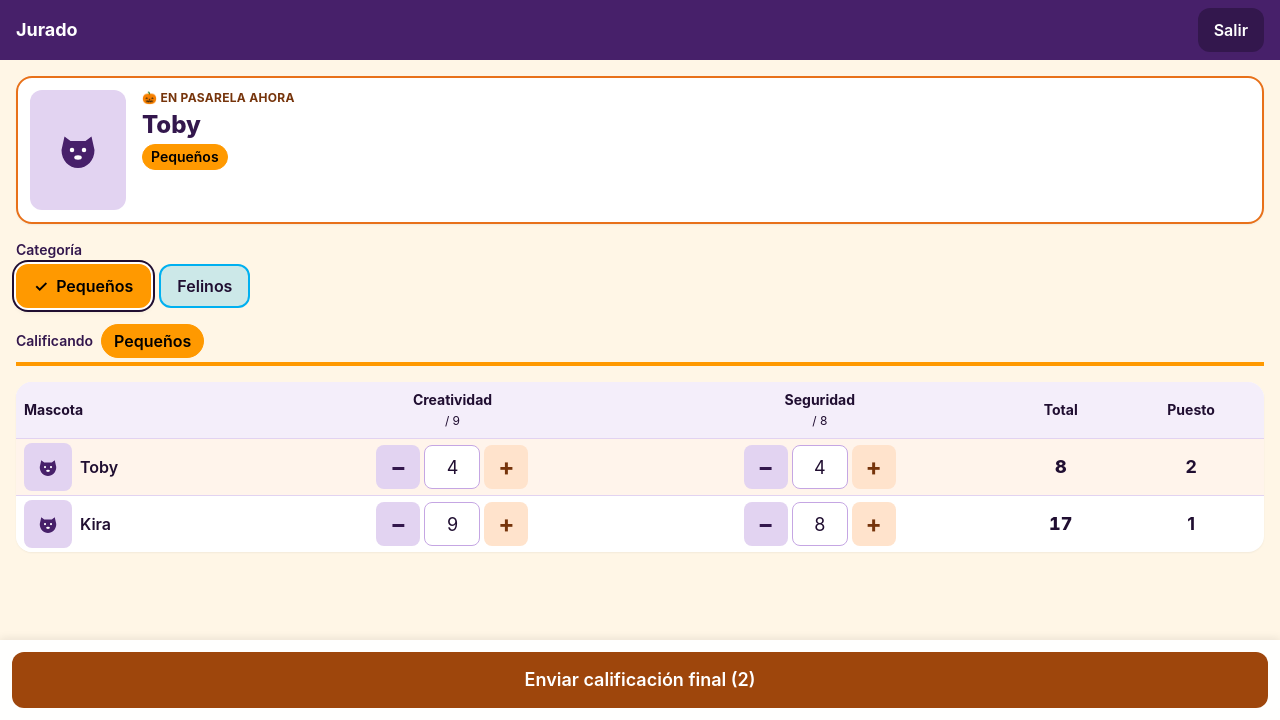
Test case: el error del envío final se muestra (p. ej. 422 CALIFICACION_INCOMPLETA)
Click the button with test id "enviar-final".
click(640, 680)  # box top-left (12, 652), bottom-right (1268, 708)
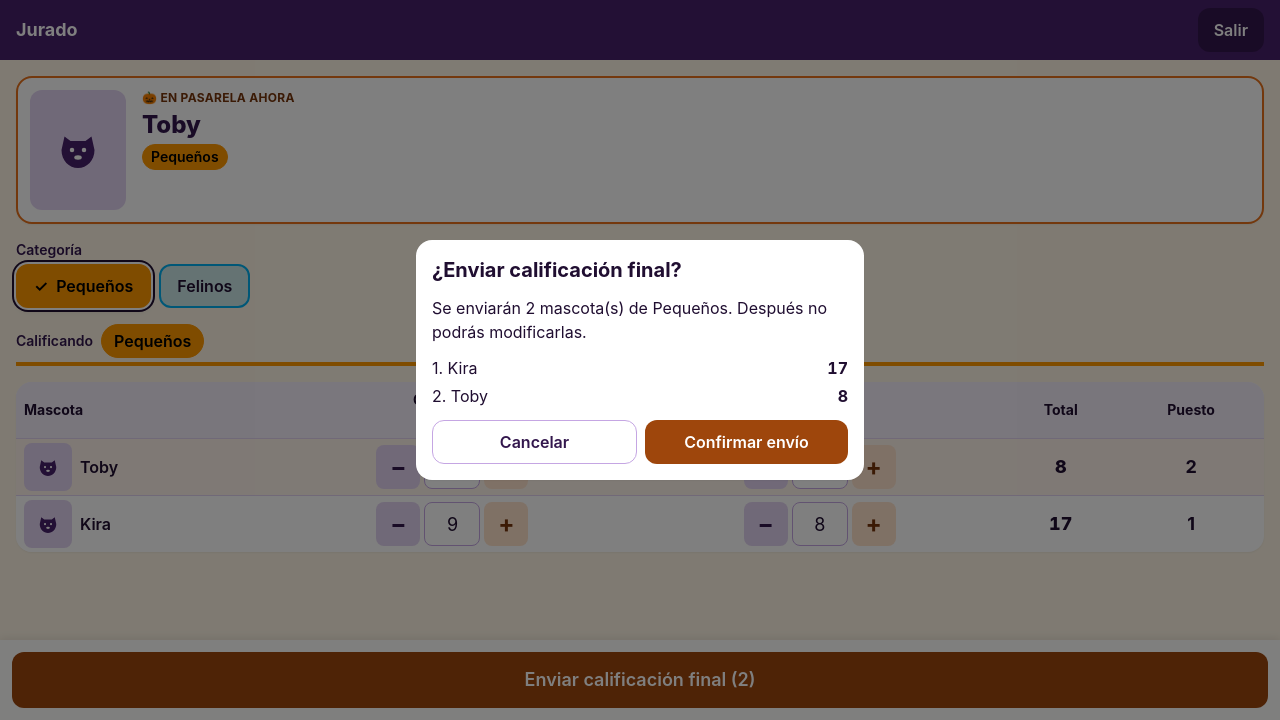
Click the button with test id "confirmar-final".
click(746, 442)  # box top-left (645, 420), bottom-right (848, 464)
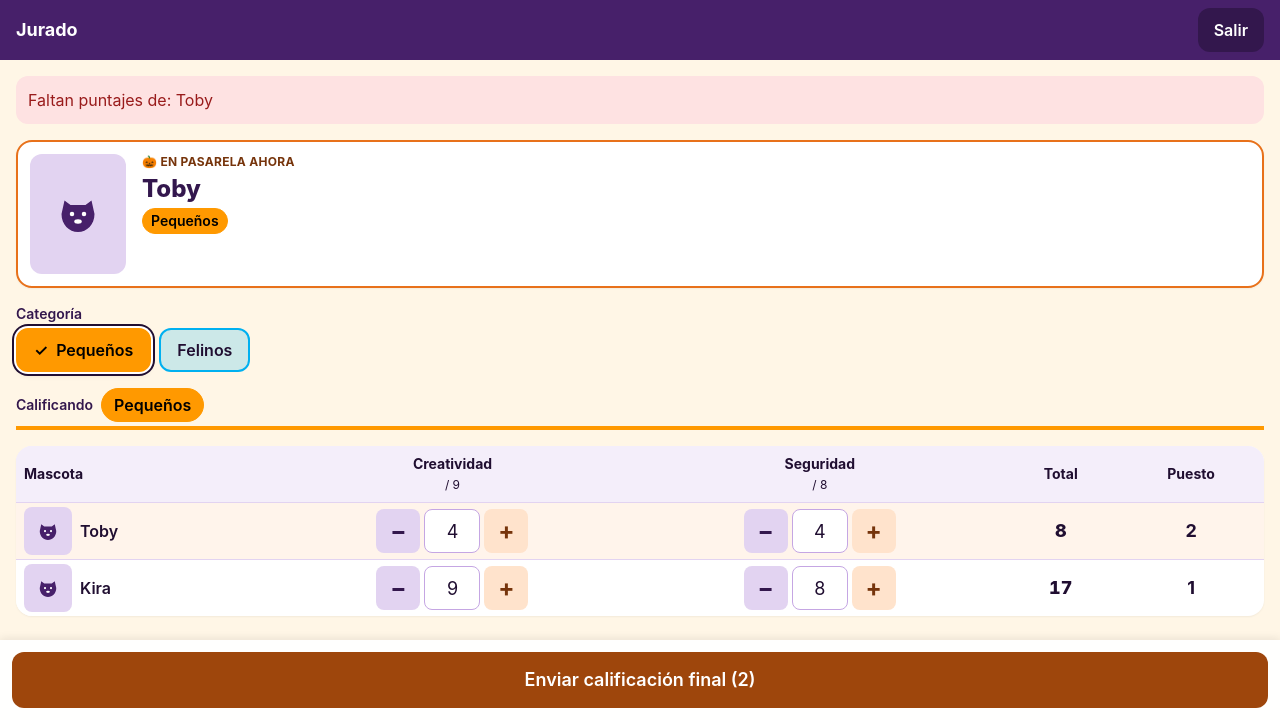
Check: the message "Faltan puntajes de: Toby" is shown, box top-left (16, 76), bottom-right (1264, 124)
